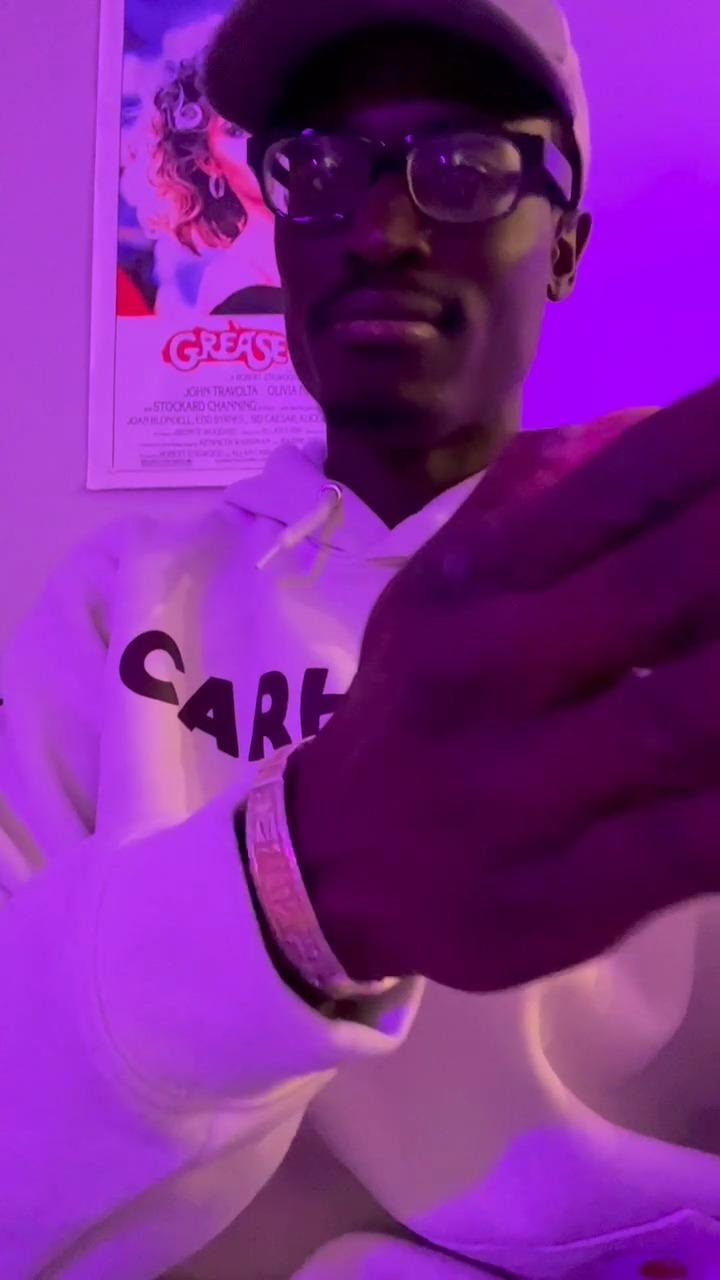Paper: (310, 366, 720, 980)
